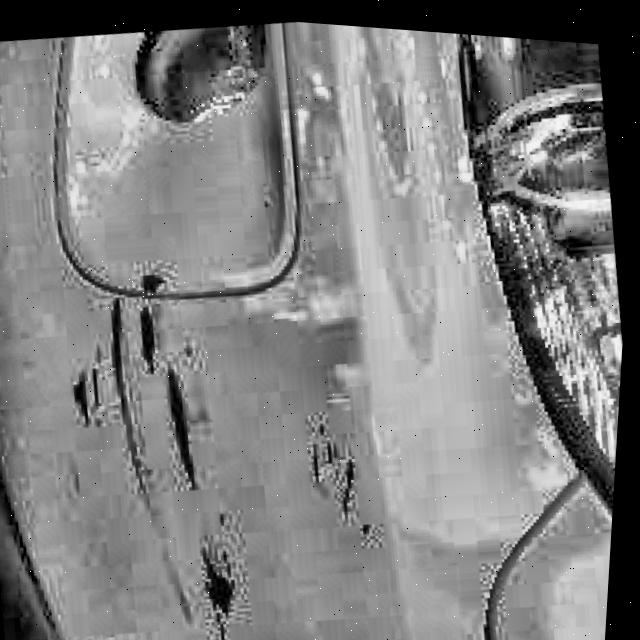bumper_scratch: (29, 243, 226, 517), (279, 397, 390, 559), (155, 492, 273, 640)
